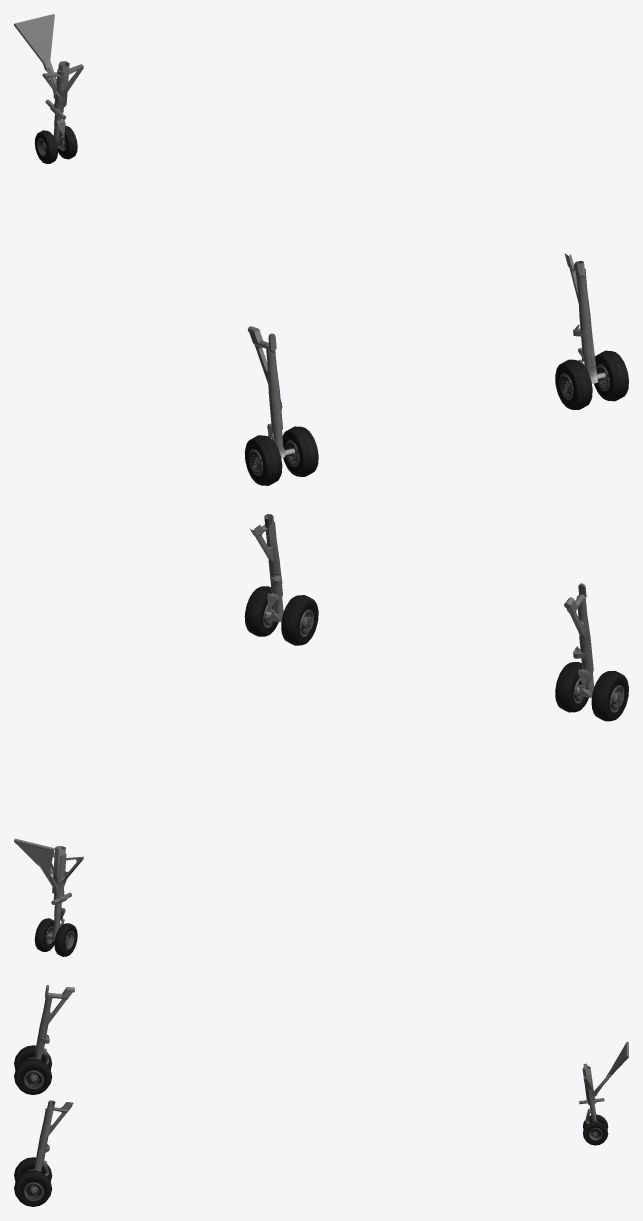
The picture shows the model from 3 angles, top to bottom: view 1: azimuth 30°, elevation 25°; view 2: azimuth 150°, elevation 25°; view 3: azimuth 270°, elevation 25°; orthographic projection. The views are drawn at different scales.
Parts seen in each view (by area): view 1: WheelLeft, WheelRight, GearFront, GearMainLeft, GearMainRight, WheelFront; view 2: WheelLeft, WheelRight, GearFront, GearMainLeft, GearMainRight, WheelFront; view 3: WheelLeft, WheelRight, GearMainRight (×2), GearFront (×2), GearMainLeft, WheelFront.
Boxes of the visible parts, x1,y1,x2,y2 form: WheelLeft: (244, 426, 318, 485); WheelRight: (555, 350, 628, 409); GearFront: (14, 14, 83, 148); GearMainLeft: (248, 326, 294, 458); GearMainRight: (564, 253, 605, 382); WheelFront: (34, 125, 77, 163); WheelLeft: (555, 662, 628, 721); WheelRight: (244, 586, 318, 645); GearFront: (14, 838, 83, 941); GearMainLeft: (564, 583, 594, 697); GearMainRight: (250, 522, 283, 622); WheelFront: (34, 918, 77, 956); WheelLeft: (14, 1045, 51, 1094); WheelRight: (14, 1157, 52, 1206); GearMainRight (×2): (34, 1100, 73, 1175); GearFront (×2): (579, 1041, 628, 1123); GearMainLeft: (34, 985, 74, 1064); WheelFront: (583, 1114, 608, 1145).
Bounding box in the file's own units: 9.25 × 3.38 × 18.38.
Materials: 2 (2 with a texture image).
